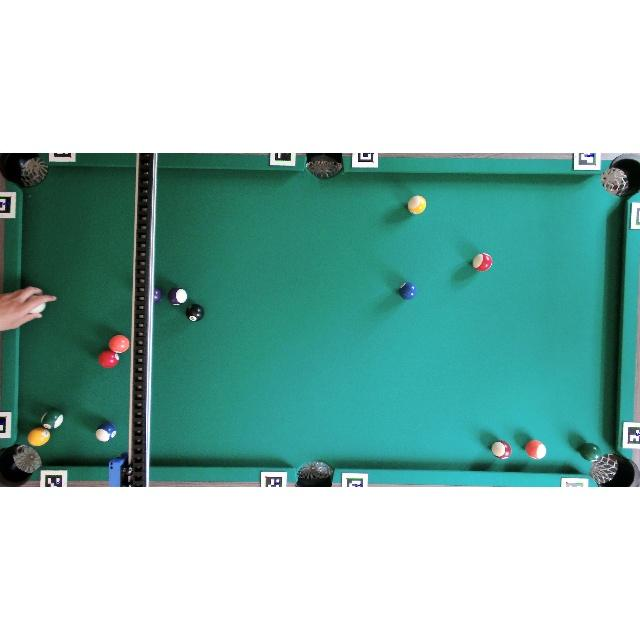other: (41, 409, 63, 430), (27, 426, 50, 446), (578, 442, 601, 462), (108, 334, 130, 354), (525, 440, 546, 460), (491, 440, 511, 460), (96, 422, 116, 442), (98, 350, 119, 368), (408, 195, 427, 214), (168, 287, 187, 306), (398, 281, 417, 300), (472, 253, 492, 271), (186, 304, 204, 322), (153, 286, 163, 302)
